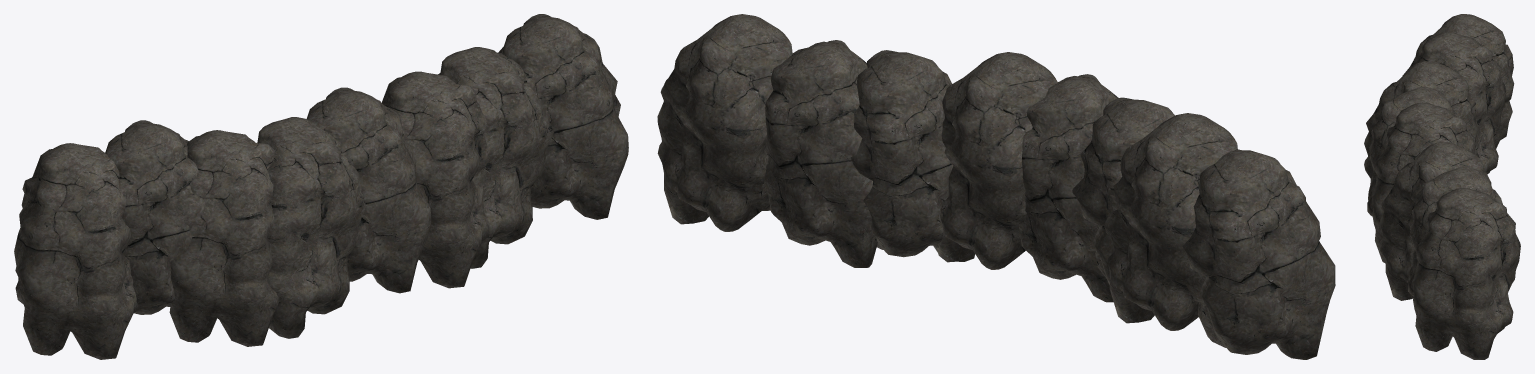
The model's file is TwinPeakRocksShape18.dae.
3 renders of one model, left to right at view 1: azimuth 30°, elevation 25°; view 2: azimuth 150°, elevation 25°; view 3: azimuth 270°, elevation 25°, orthographic. The views are drawn at different scales.
Parts seen in each view (by area): view 1: TwinPeakRocks18; view 2: TwinPeakRocks18; view 3: TwinPeakRocks18.
Boxes of the visible parts, left/top/right/bottom form: TwinPeakRocks18: left=14, top=14, right=628, bottom=359; TwinPeakRocks18: left=657, top=14, right=1335, bottom=359; TwinPeakRocks18: left=1364, top=14, right=1520, bottom=359.
Bounding box in the file's own units: 200 × 63.59 × 56.63.
